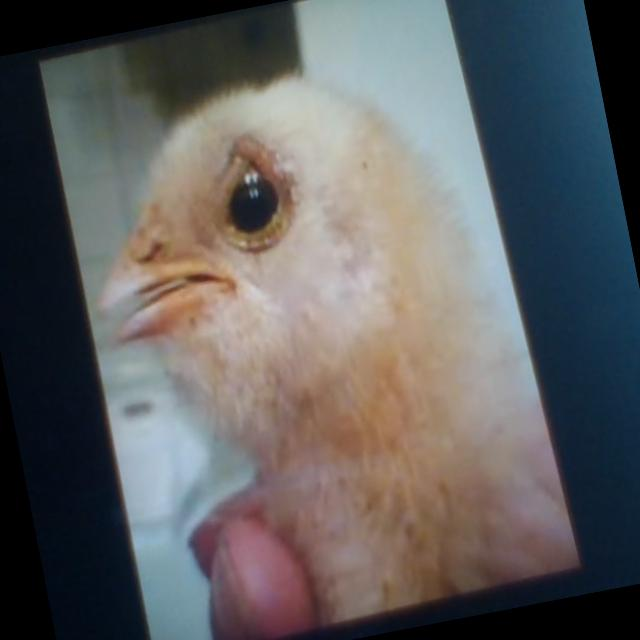Sick: (70, 34, 561, 640)
